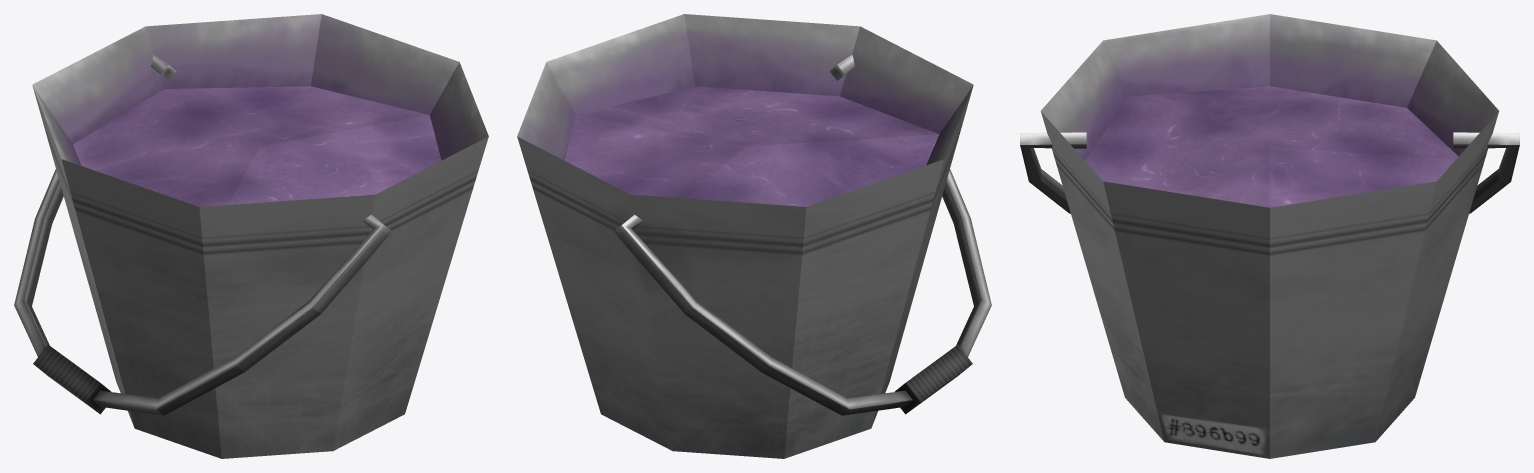
Rendered from Bucket.fbx.
3 views of the same model, side by side, from view 1: azimuth 30°, elevation 25°; view 2: azimuth 150°, elevation 25°; view 3: azimuth 270°, elevation 25° (orthographic).
Visible parts, largest first — view 1: Bucket; view 2: Bucket; view 3: Bucket.
Boxes of the visible parts, left/top/right/bottom form: Bucket: left=14, top=14, right=488, bottom=458; Bucket: left=517, top=14, right=991, bottom=458; Bucket: left=1020, top=14, right=1519, bottom=458.
Size of the model in its own units: 123 by 84.25 by 133.
